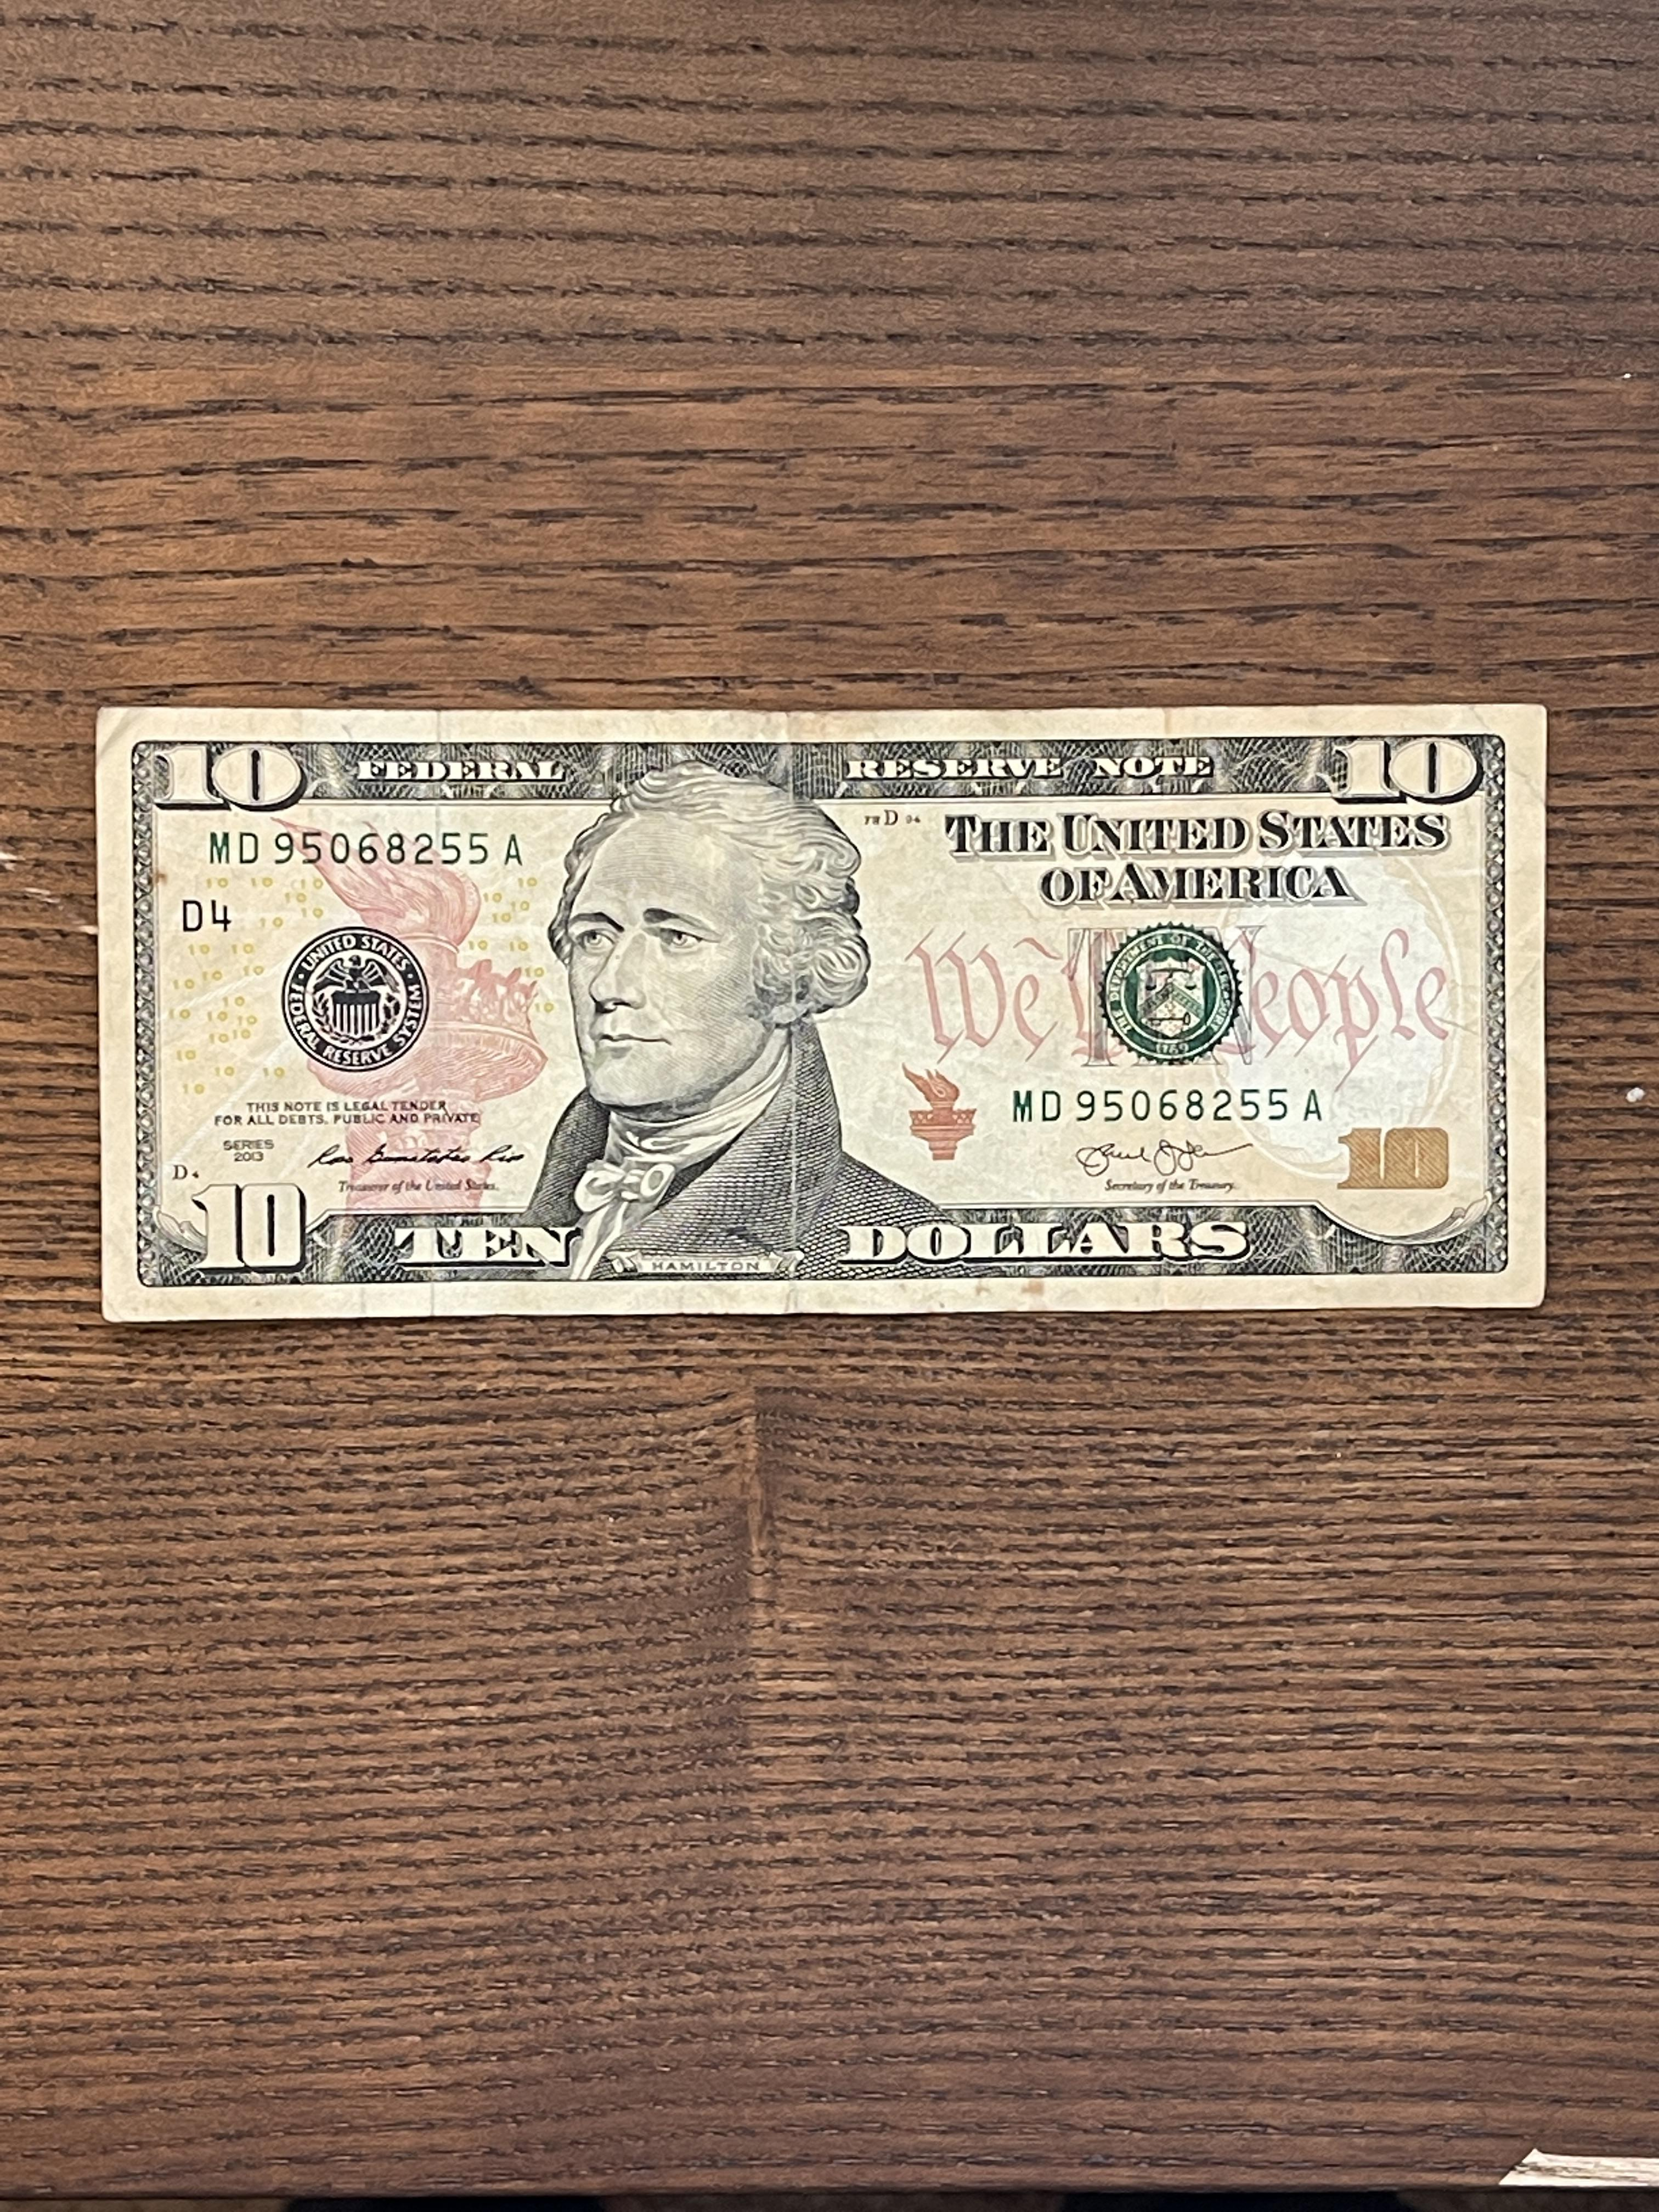TenBill: (87, 697, 1561, 1329)
